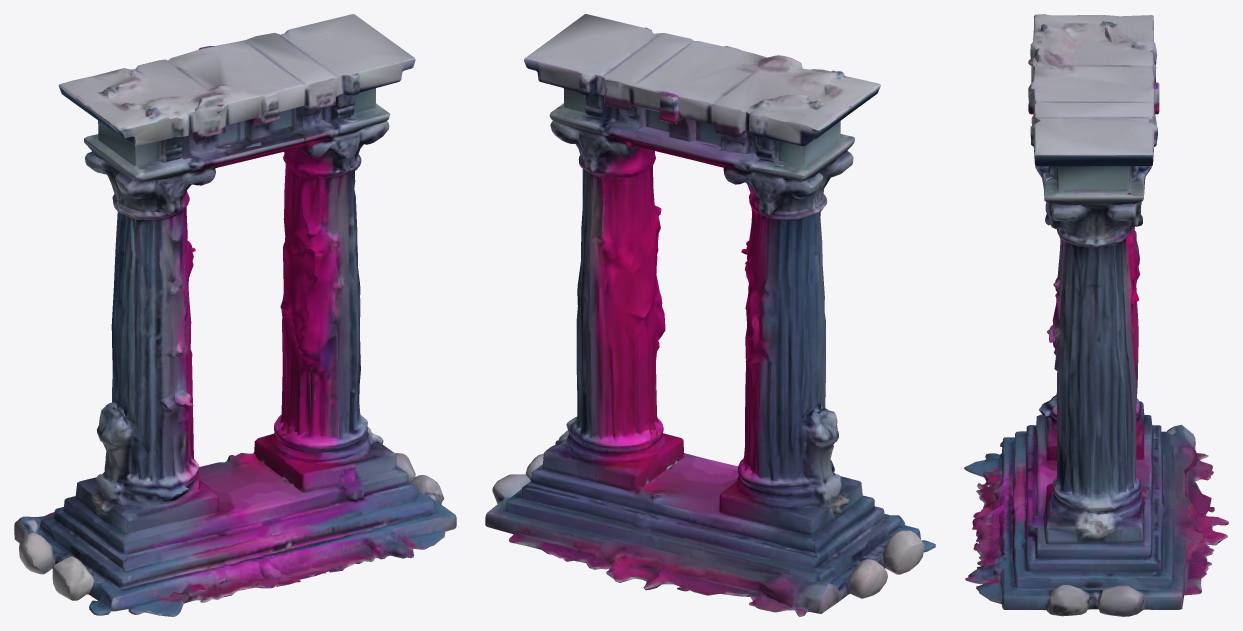
File: support-column-generated-2026-05-17T18-28-00-874Z.low.glb
3 renders of one model, left to right at view 1: azimuth 30°, elevation 25°; view 2: azimuth 150°, elevation 25°; view 3: azimuth 270°, elevation 25°, orthographic. The views are drawn at different scales.
Visible parts, largest first — view 1: temp_mesh.ply; view 2: temp_mesh.ply; view 3: temp_mesh.ply.
Part boxes in pixels (left/top/right/bottom): temp_mesh.ply: left=14, top=14, right=456, bottom=616; temp_mesh.ply: left=485, top=14, right=935, bottom=616; temp_mesh.ply: left=964, top=14, right=1228, bottom=616.
Size of the model in its own units: 1.69 by 1.97 by 1.04.
1 material, 1 textured.
